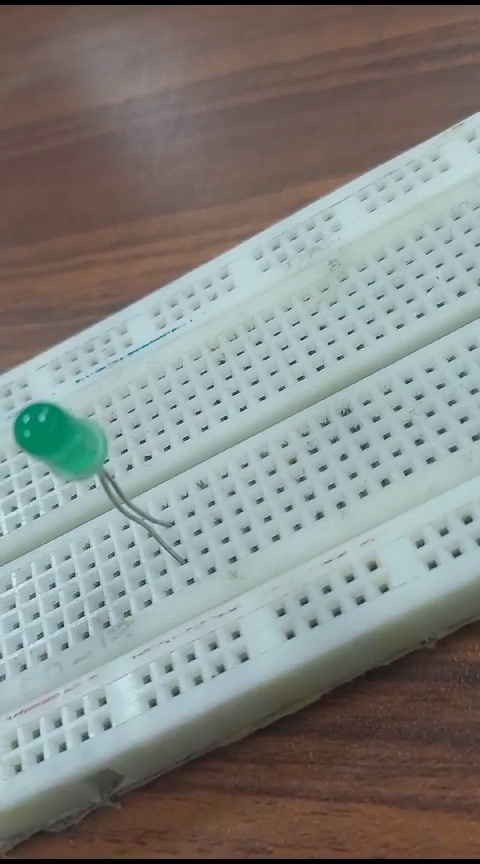LED: (10, 397, 195, 565)
